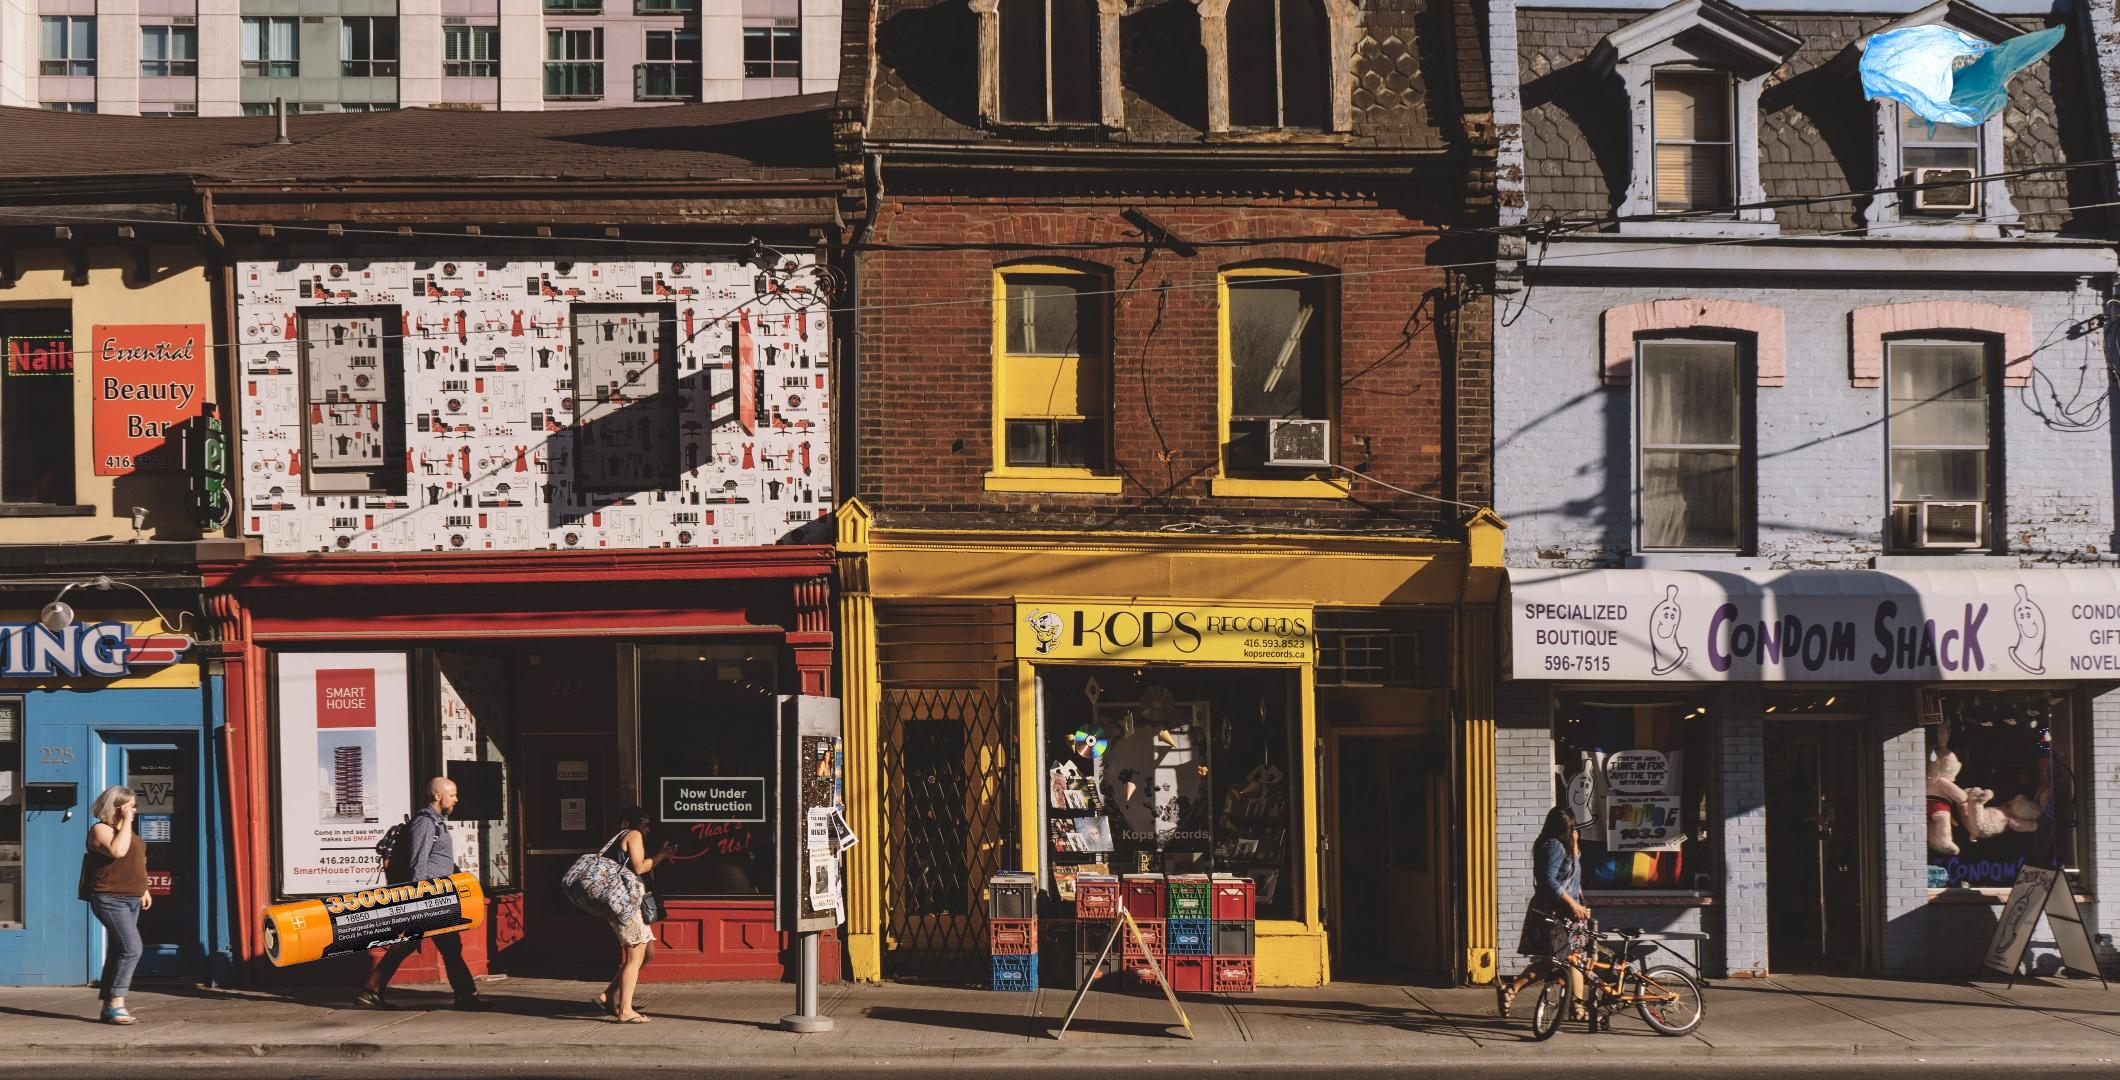battery: (260, 869, 486, 970)
plastic-bag: (1856, 21, 2069, 145)
